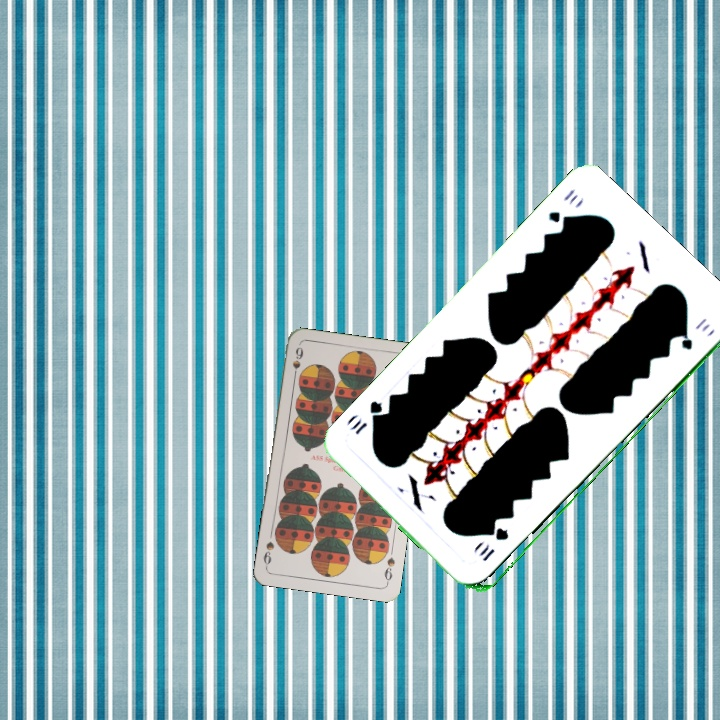G10: (544, 185, 580, 229), (478, 525, 512, 564)
S9: (289, 343, 306, 383), (380, 553, 398, 586)
